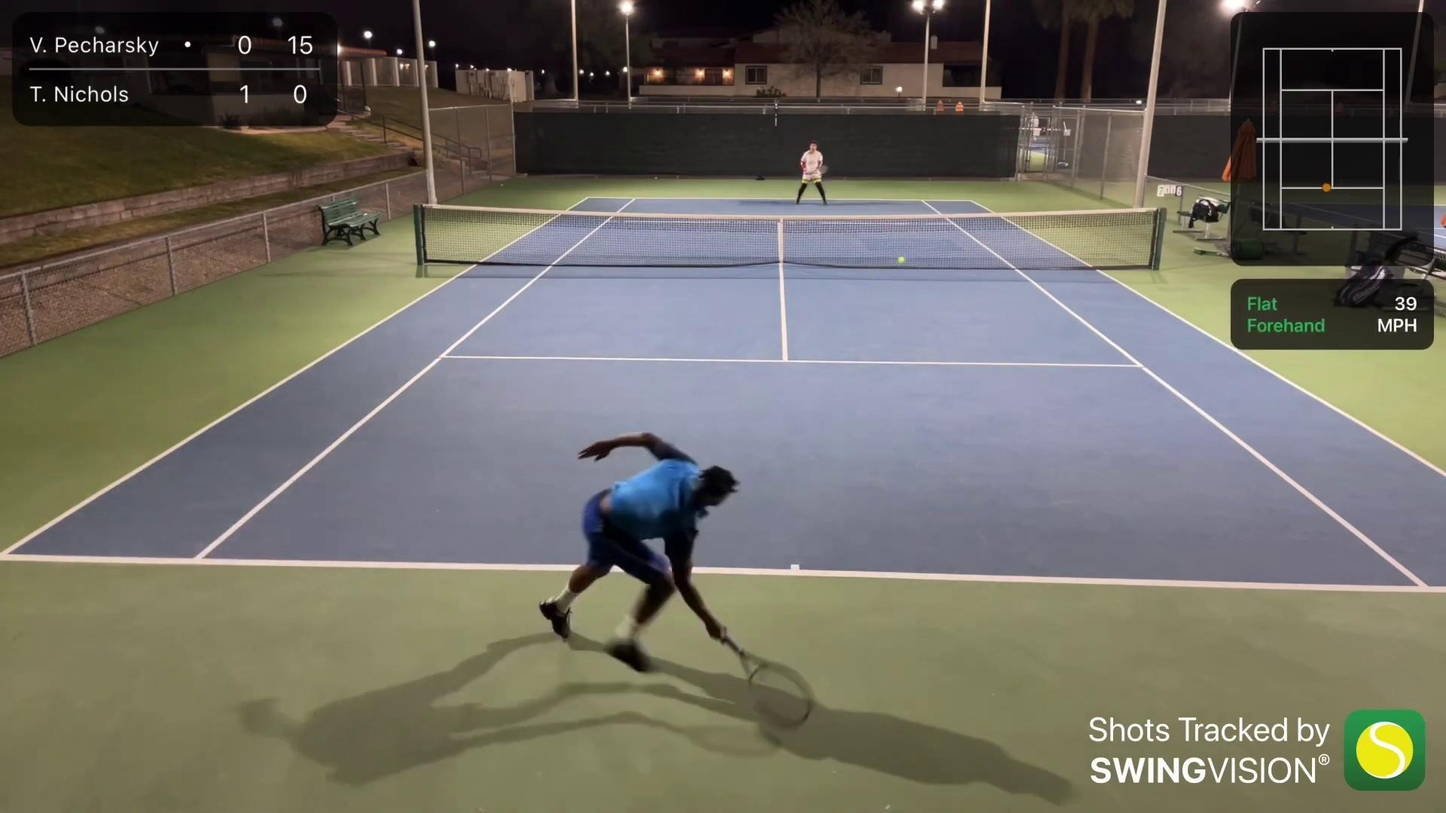ball: (897, 254, 907, 265)
